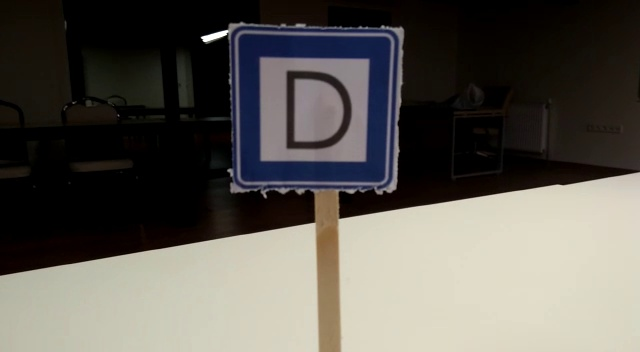durak: (231, 28, 402, 192)
